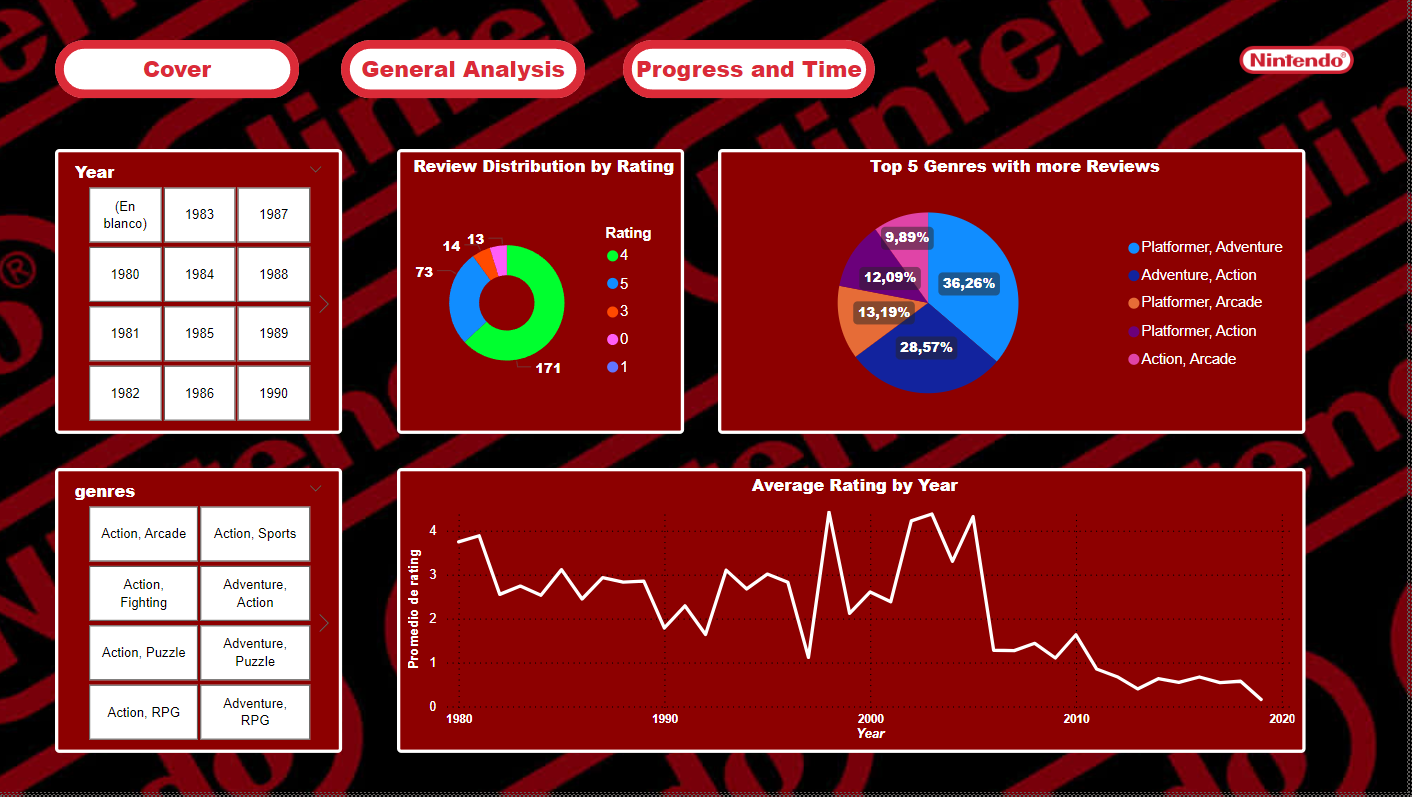

The dashboard page shown, as its layout file describes it:
{"tool":"powerbi","page":{"name":"Rating and review","canvas":[1280,720],"ordinal":3},"visuals":[{"type":"image","box":[1078,0,202,108],"z":0},{"type":"actionButton","box":[50.9,36.2,221.7,52.6],"z":2000},{"type":"actionButton","box":[311.4,36.2,229.4,52.6],"z":3000},{"type":"lineChart","title":"Average Rating by Year","fields":{"Category":["Calendario.Year"],"Y":["Avg(RATINGS.rating)"]},"box":[361.4,425.2,826.3,258.8],"z":4000},{"type":"pieChart","title":"Top 5 Genres with more Reviews","fields":{"Category":["GAME_TAGS_GENRE.genres"],"Y":["Medidas.Total_Reseñas"]},"box":[653.6,135.2,534,258.7],"z":5000},{"type":"donutChart","title":"Review Distribution by Rating","fields":{"Y":["Sum(RATINGS.reviews_text_count)"],"Category":["RATINGS.rating_top"]},"box":[361.8,135.2,260.7,258.7],"z":6000},{"type":"slicer","fields":{"Values":["Calendario.Year"]},"box":[50.8,135.8,279.2,96.7],"z":7000},{"type":"slicer","fields":{"Values":["GAME_TAGS_GENRE.genres"]},"box":[50.8,265,279.2,419.2],"z":8000}]}

Visuals, with their boxes in screenshot pixels (x1, y1, x2, y2), scaled from the page's 1280x720 canvas onto the 1412x797 screenshot:
image: (x1=1189, y1=0, x2=1411, y2=120)
actionButton: (x1=56, y1=40, x2=301, y2=98)
actionButton: (x1=344, y1=40, x2=597, y2=98)
"Average Rating by Year" lineChart: (x1=399, y1=471, x2=1310, y2=757)
"Top 5 Genres with more Reviews" pieChart: (x1=721, y1=150, x2=1310, y2=436)
"Review Distribution by Rating" donutChart: (x1=399, y1=150, x2=687, y2=436)
slicer - Calendario.Year: (x1=56, y1=150, x2=364, y2=257)
slicer - GAME_TAGS_GENRE.genres: (x1=56, y1=293, x2=364, y2=757)
